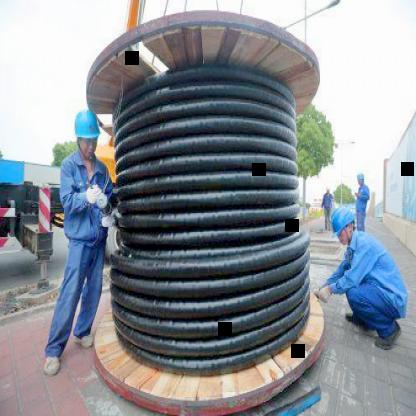helmet: (73, 106, 100, 160), (330, 203, 358, 247), (354, 168, 366, 186)
